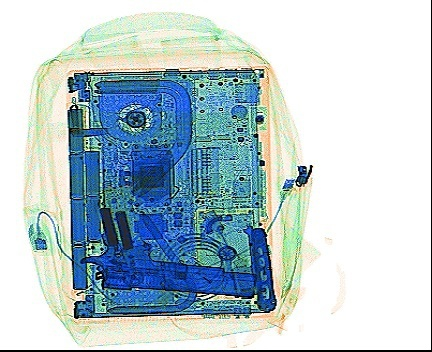knife: (239, 223, 278, 313)
lighter: (178, 250, 224, 295)
